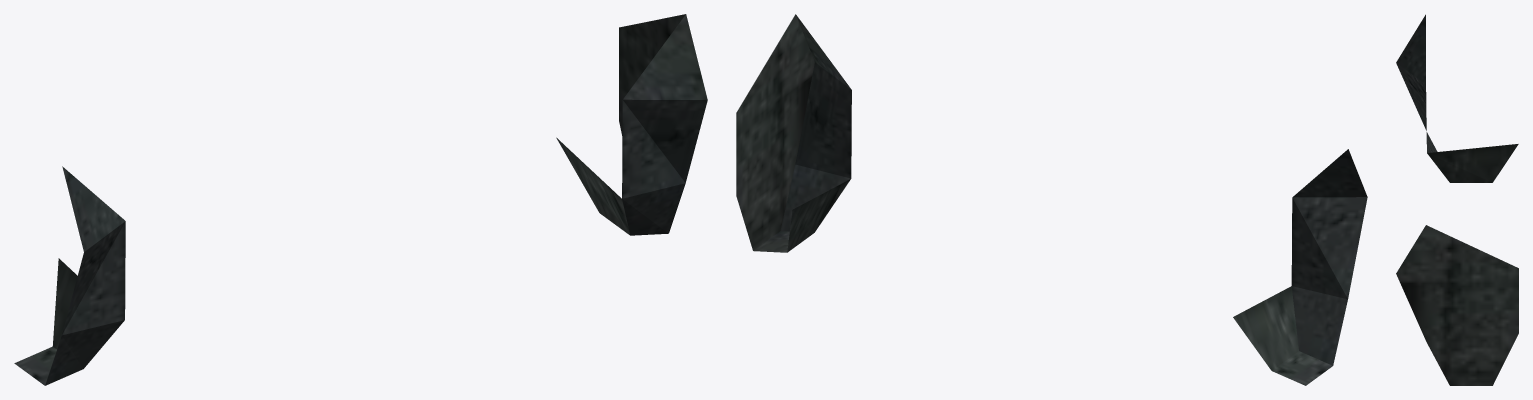
3 renders of one model, left to right at view 1: azimuth 30°, elevation 25°; view 2: azimuth 150°, elevation 25°; view 3: azimuth 270°, elevation 25°, orthographic. The views are drawn at different scales.
Visible parts, largest first — view 1: model_Object17; view 2: model_Object17; view 3: model_Object17.
Part boxes in pixels (<box>): model_Object17: <box>14,14,707,385</box>; model_Object17: <box>736,14,1367,385</box>; model_Object17: <box>1396,14,1518,385</box>.
Bounding box in the file's own units: 4 × 1.42 × 0.9851.
Materials: 2 (2 with a texture image).
